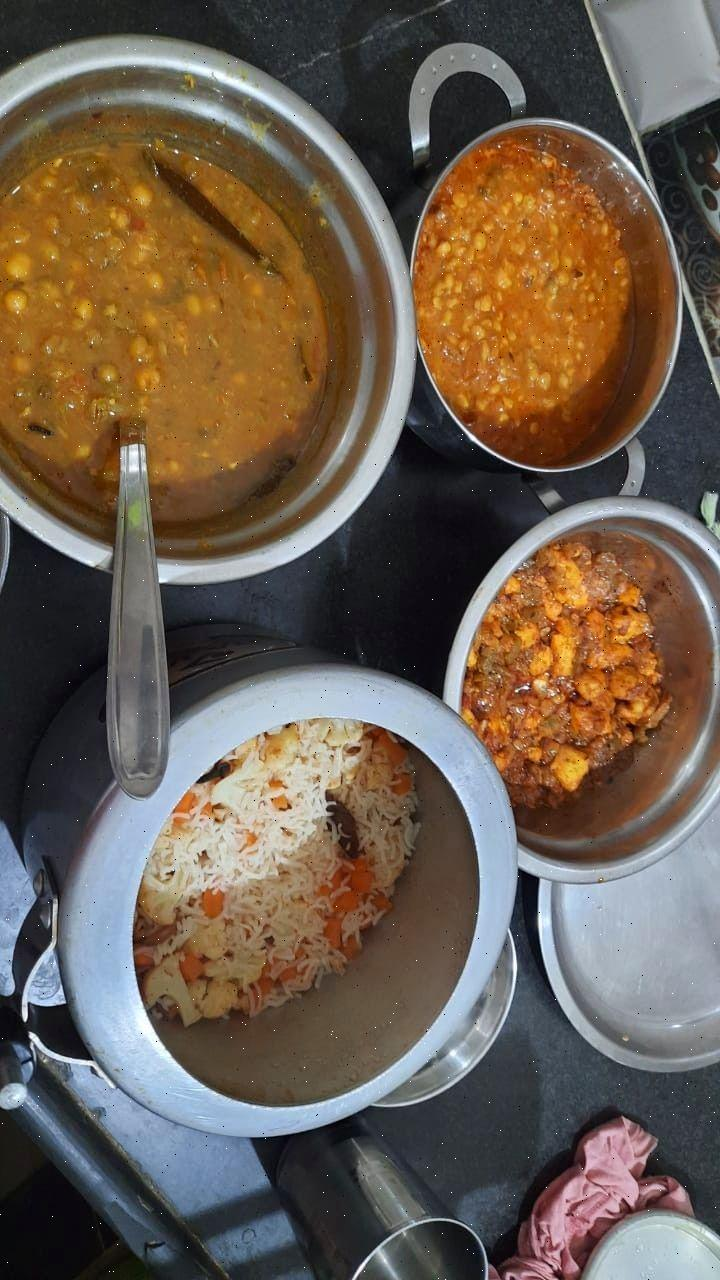chole: (67, 151, 368, 495), (423, 191, 646, 473), (470, 554, 703, 815)
rice: (197, 738, 397, 1064)
